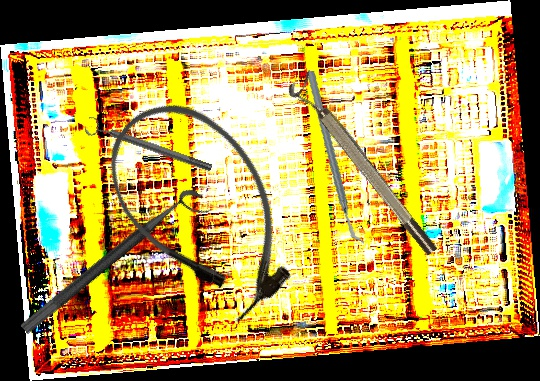Cannula: (80, 74, 325, 343)
Chopper: (281, 69, 390, 245)
Fixation Ring: (18, 184, 213, 350), (285, 71, 441, 264), (83, 114, 215, 179)
